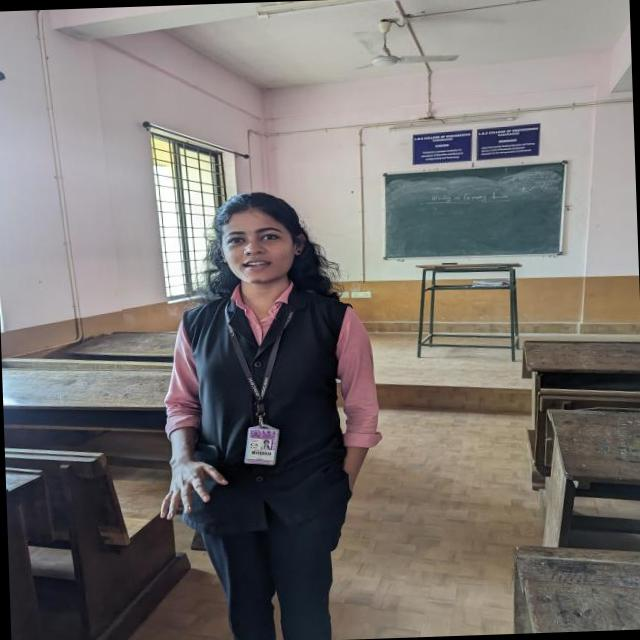id_card: (225, 287, 296, 468)
